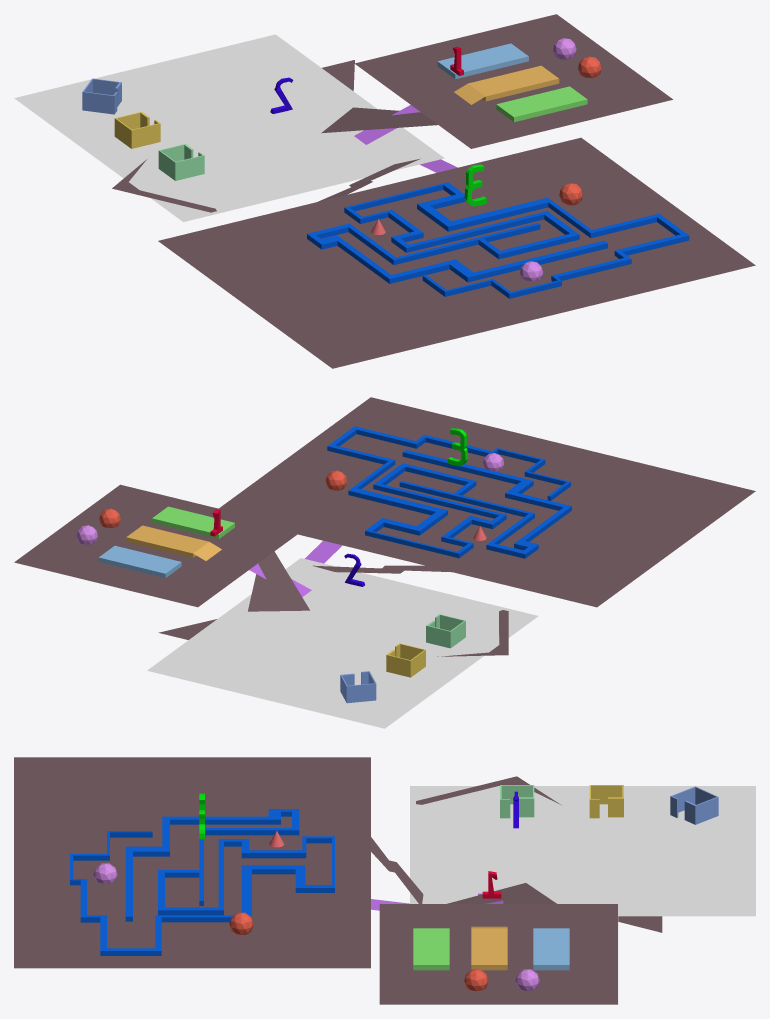
Rendered from levelB2.fbx.
3 views of the same model, one above another, from view 1: azimuth 30°, elevation 25°; view 2: azimuth 150°, elevation 25°; view 3: azimuth 270°, elevation 25° (orthographic). The views are drawn at different scales.
Parts seen in each view (by area): view 1: Plane, Plane.002, Cube.008, Cube.002, Cube.001, Cube.003, Room1, Room1.001, Room1.002; view 2: Plane, Plane.002, Cube.008, Cube.002, Cube.003, Cube.001, Room1, Room1.001, Room1.002; view 3: Plane, Plane.002, Cube.008, Cube.002, Cube.001, Cube.003, Room1.002, Room1.001, Room1, Icosphere.002, Icosphere, Icosphere.001.
Boxes of the visible parts, x1,y1,x2,y2 form: Plane: (112, 14, 755, 368); Plane.002: (14, 34, 444, 221); Cube.008: (307, 182, 689, 298); Cube.002: (454, 65, 559, 104); Cube.001: (496, 86, 587, 122); Cube.003: (437, 43, 528, 79); Room1: (158, 144, 204, 180); Room1.001: (114, 111, 160, 148); Room1.002: (82, 78, 121, 114); Plane: (14, 397, 755, 656); Plane.002: (147, 558, 538, 728); Cube.008: (327, 426, 571, 558); Cube.002: (126, 525, 221, 560); Cube.003: (98, 545, 181, 578); Cube.001: (152, 506, 234, 538); Room1: (426, 614, 465, 648); Room1.001: (386, 643, 425, 677); Room1.002: (340, 671, 376, 703); Plane: (14, 757, 662, 1004); Plane.002: (410, 786, 755, 916); Cube.008: (70, 809, 334, 955); Cube.002: (471, 926, 507, 970); Cube.001: (413, 928, 449, 970); Cube.003: (533, 928, 569, 970); Room1.002: (670, 786, 718, 824); Room1.001: (589, 785, 623, 818); Room1: (500, 785, 534, 818); Icosphere.002: (229, 912, 253, 934); Icosphere: (464, 969, 488, 991); Icosphere.001: (515, 969, 539, 991).
Bounding box in the file's own units: 21718 × 3389 × 26284.
